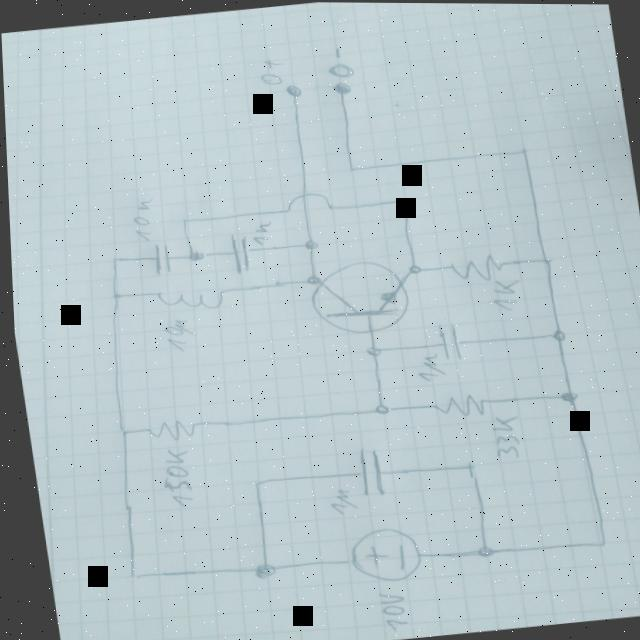capacitor: (348, 442, 383, 499), (223, 228, 251, 274), (432, 319, 460, 361), (146, 240, 174, 275)
crossover: (276, 187, 337, 217)
inductor: (149, 280, 226, 315)
junction: (242, 557, 275, 580), (466, 539, 493, 560), (552, 384, 579, 405), (450, 456, 479, 475), (366, 397, 392, 417), (296, 233, 323, 252), (387, 188, 412, 208), (358, 341, 385, 359), (583, 533, 608, 552), (544, 324, 569, 343), (241, 473, 266, 491), (509, 141, 533, 159), (181, 246, 203, 264), (340, 156, 360, 175), (118, 565, 139, 582), (402, 260, 424, 276), (111, 422, 130, 440), (104, 286, 125, 302), (533, 250, 554, 265), (173, 212, 192, 227), (105, 250, 122, 266), (301, 271, 320, 285)
resistor: (443, 248, 507, 287), (138, 413, 201, 445), (426, 389, 491, 420)
source: (336, 521, 422, 587)
terminal: (282, 80, 305, 98), (329, 79, 352, 95)
text: (153, 444, 193, 510), (484, 410, 521, 458), (369, 588, 408, 631), (126, 195, 159, 243), (159, 316, 195, 354), (487, 276, 522, 311), (323, 43, 356, 79), (410, 350, 444, 383), (321, 485, 355, 516), (255, 54, 287, 86), (247, 219, 272, 246)
transistor: (299, 253, 413, 339)
